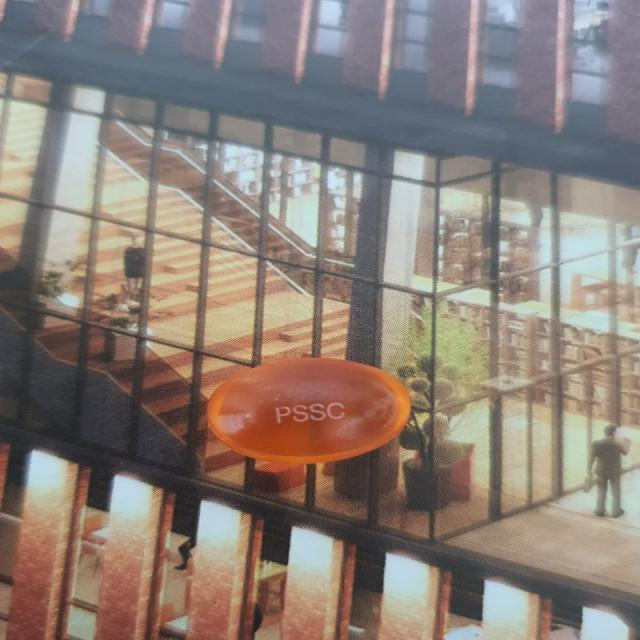pill: (185, 340, 426, 473)
